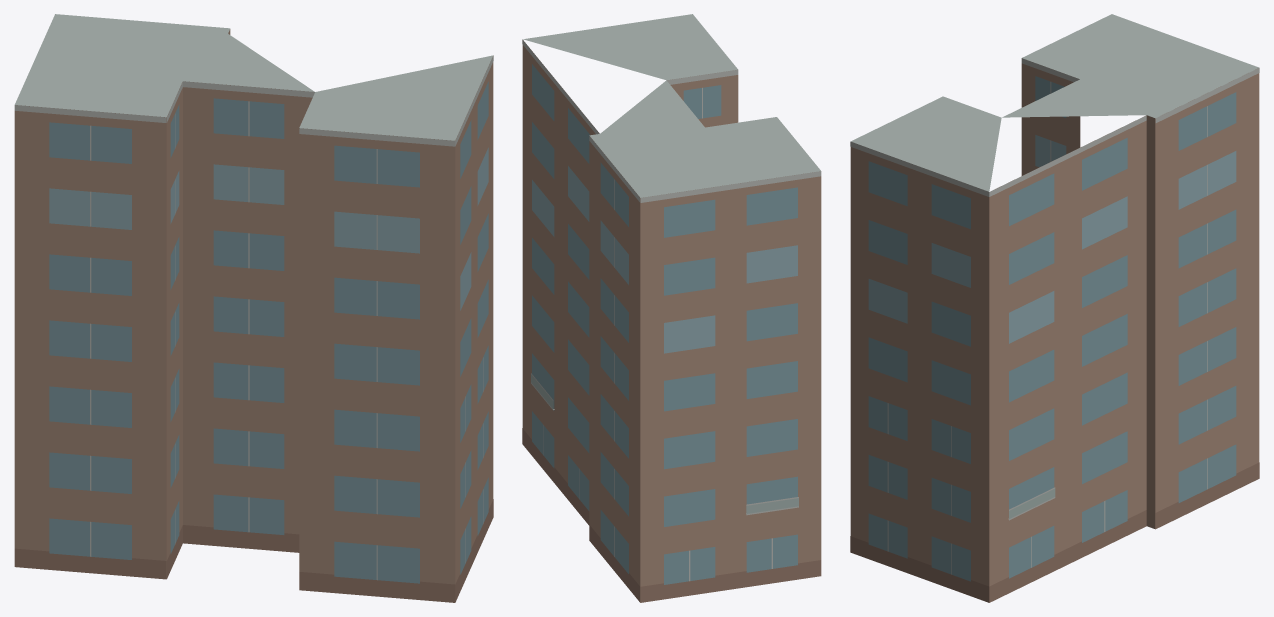
File: survey-upis-32995551.glb
3 renders of one model, left to right at view 1: azimuth 30°, elevation 25°; view 2: azimuth 150°, elevation 25°; view 3: azimuth 270°, elevation 25°, orthographic. The views are drawn at different scales.
Parts seen in each view (by area): view 1: survey-upis-32995551.tmp; view 2: survey-upis-32995551.tmp; view 3: survey-upis-32995551.tmp.
Part boxes in pixels (left/top/right/bottom): survey-upis-32995551.tmp: left=14, top=14, right=493, bottom=602; survey-upis-32995551.tmp: left=522, top=14, right=821, bottom=602; survey-upis-32995551.tmp: left=850, top=14, right=1259, bottom=602.
Bounding box in the file's own units: 17.74 × 19.1 × 17.23.
